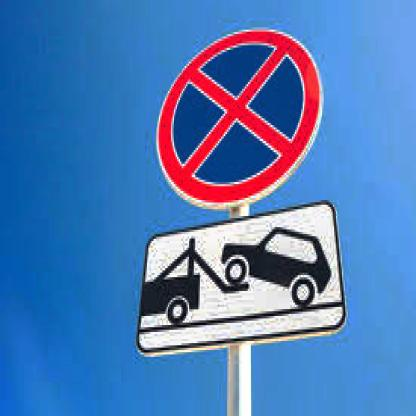No stopping: (155, 28, 313, 197)
